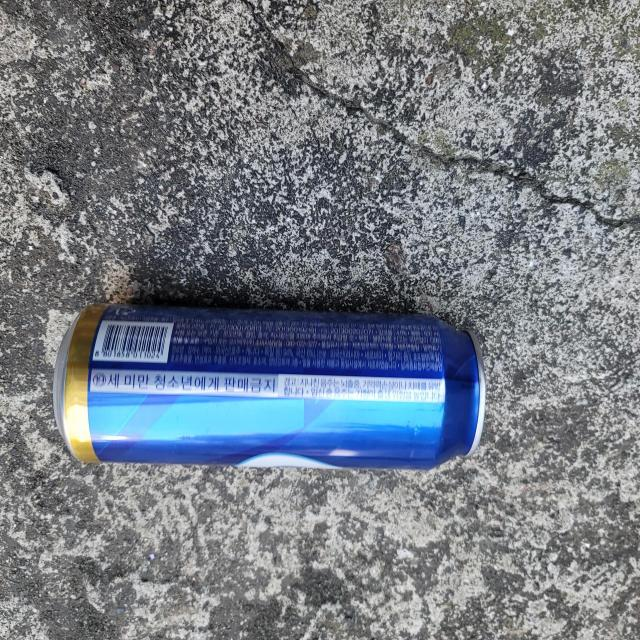can: (54, 304, 485, 470)
